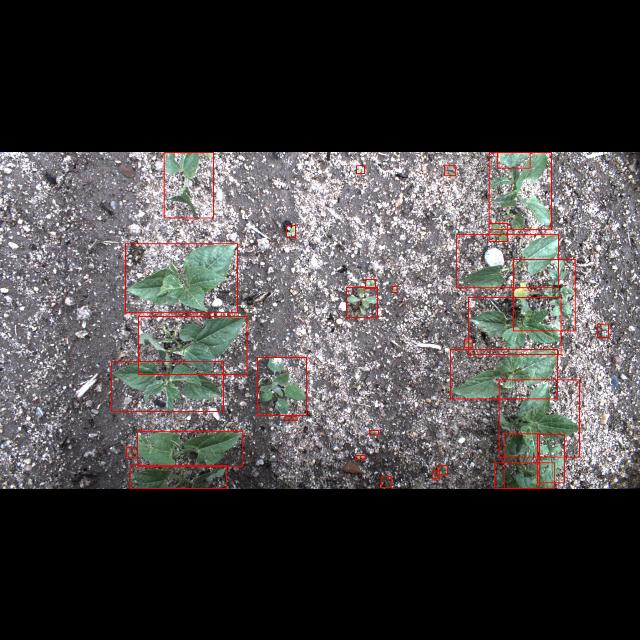crop: (125, 244, 237, 312), (498, 379, 580, 456), (139, 316, 247, 374), (111, 361, 223, 411), (468, 296, 562, 354), (450, 349, 558, 399), (457, 234, 559, 286), (489, 151, 551, 229), (138, 430, 242, 466), (164, 151, 212, 217), (130, 464, 226, 488), (504, 434, 540, 488), (498, 151, 530, 167)
weed: (513, 258, 575, 330), (258, 357, 306, 415), (494, 462, 554, 488), (538, 433, 564, 482), (347, 287, 378, 317), (488, 222, 508, 240), (598, 323, 608, 337), (286, 224, 296, 236), (444, 165, 456, 175), (381, 477, 391, 488), (365, 278, 375, 288), (437, 466, 447, 474), (464, 338, 472, 346), (357, 165, 365, 173), (432, 471, 440, 479), (126, 448, 132, 458), (285, 416, 297, 420), (356, 455, 366, 459), (369, 430, 378, 434), (392, 285, 396, 291)
